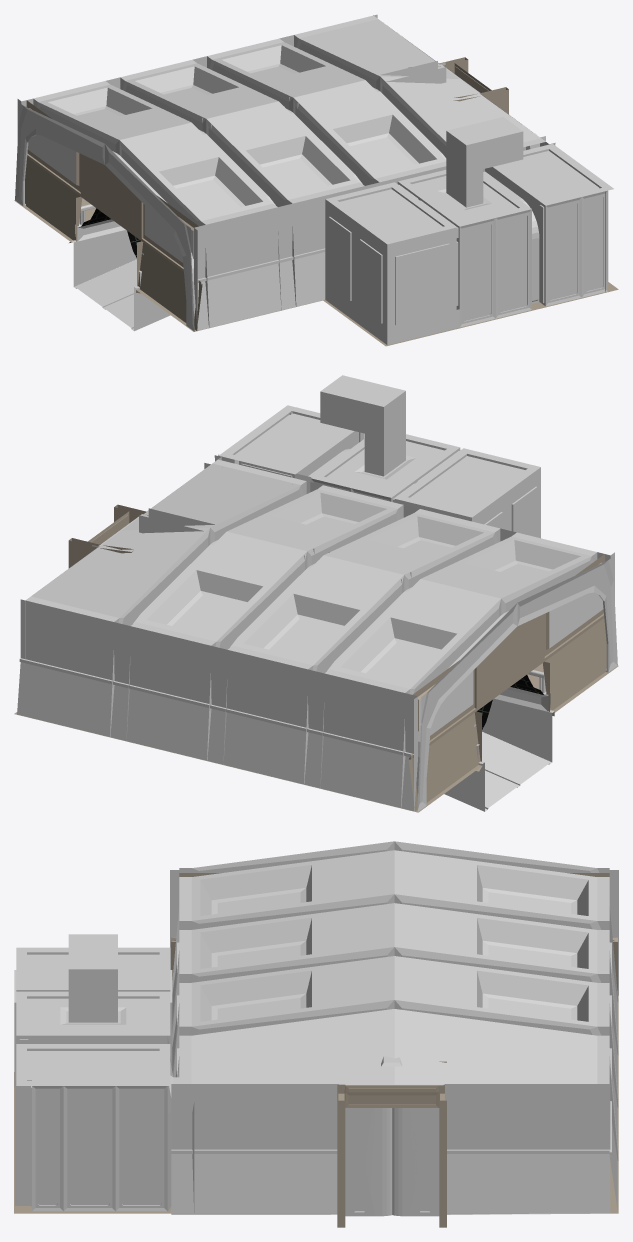
The model's file is DiveFloor.fbx.
3 renders of one model, top to bottom at view 1: azimuth 30°, elevation 25°; view 2: azimuth 150°, elevation 25°; view 3: azimuth 270°, elevation 25°, orthographic. The views are drawn at different scales.
Visible parts, largest first — view 1: Pillars/Ceiling, Closetwall.002, Side Walls, Closetwall.001, Cube.006, ClosetRoof, Ceiling, VentChute, RampWalls, Ramp, Floor, Ventroof (+3 smaller); view 2: Pillars/Ceiling, Side Walls, Cube.006, ClosetRoof, Ceiling, VentChute, RampWalls, Closetwall.001, Ramp, SecurityDoor Frame, Ventroof, TopBeam (+3 smaller); view 3: Pillars/Ceiling, Ceiling, FrontWallLeft, FrontWallRight, ClosetRoof, Closetwall.003, SecurityDoor, SecurityDoor Frame, Side Walls, Closetpillar, Ventroof, VentChute (+5 smaller).
Boxes of the visible parts, x1,y1,x2,y2 form: Pillars/Ceiling: (15, 35, 446, 331); Closetwall.002: (459, 167, 607, 327); Side Walls: (17, 14, 446, 330); Closetwall.001: (325, 182, 459, 344); Cube.006: (25, 100, 202, 330); ClosetRoof: (325, 144, 613, 244); Ceiling: (294, 15, 545, 147); VentChute: (446, 131, 523, 207); RampWalls: (71, 230, 170, 331); Ramp: (74, 259, 168, 330); Floor: (14, 198, 618, 346); Ventroof: (447, 117, 522, 145); Pillars/Ceiling: (110, 481, 617, 811); Side Walls: (17, 482, 614, 811); Cube.006: (408, 554, 606, 811); ClosetRoof: (219, 405, 540, 517); Ceiling: (25, 459, 306, 621); VentChute: (320, 391, 405, 476); RampWalls: (444, 698, 554, 811); Closetwall.001: (391, 448, 540, 538); Ramp: (451, 732, 551, 811); SecurityDoor Frame: (68, 504, 148, 568); Ventroof: (320, 375, 405, 406); TopBeam: (139, 508, 411, 582); Pillars/Ceiling: (172, 841, 618, 1161); Ceiling: (179, 1009, 609, 1085); FrontWallLeft: (171, 1084, 337, 1214); FrontWallRight: (445, 1084, 610, 1214); ClosetRoof: (16, 947, 170, 1085); Closetwall.003: (32, 1086, 167, 1211); SecurityDoor: (345, 1108, 439, 1216); SecurityDoor Frame: (337, 1061, 446, 1227); Side Walls: (170, 870, 618, 1209); Closetpillar: (15, 1080, 31, 1206); Ventroof: (68, 934, 117, 969); VentChute: (68, 969, 117, 1003).
Size of the model in its own units: 1583 by 803 by 1740.
